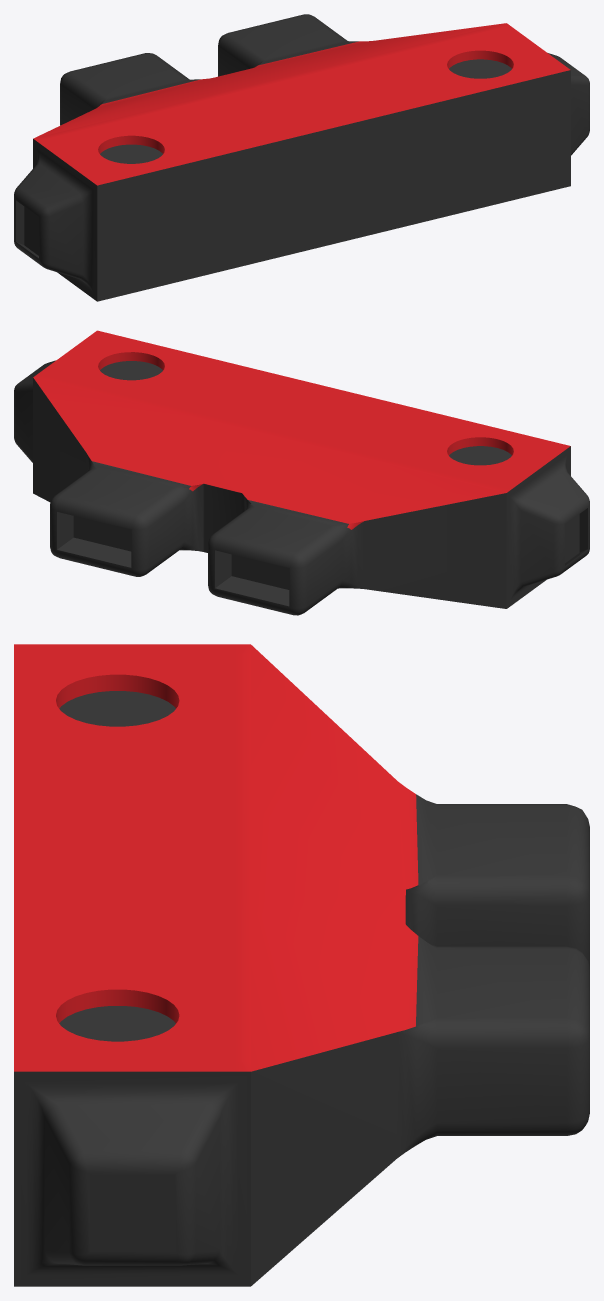
File: arcanoid_bar.fbx
The picture shows the model from 3 angles, top to bottom: view 1: azimuth 30°, elevation 25°; view 2: azimuth 150°, elevation 25°; view 3: azimuth 270°, elevation 25°; orthographic projection. The views are drawn at different scales.
Visible parts, largest first — view 1: Cube.001; view 2: Cube.001; view 3: Cube.001.
Part boxes in pixels (x1=…): Cube.001: x1=14, y1=14, x2=589, y2=301; Cube.001: x1=14, y1=330, x2=589, y2=615; Cube.001: x1=14, y1=644, x2=589, y2=1286.
Bounding box in the file's own units: 989 × 200 × 486.
